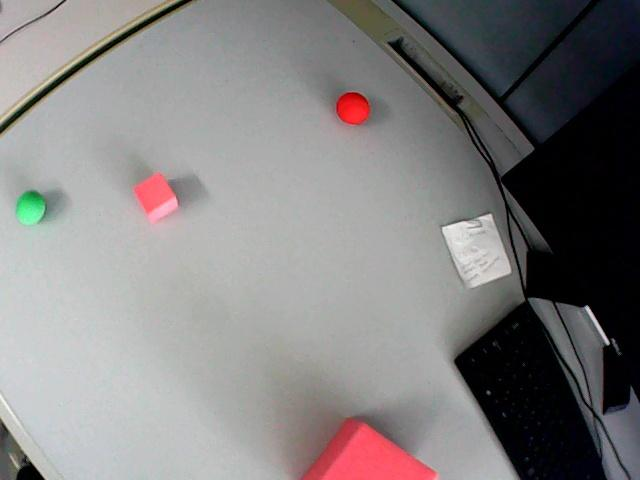red_block: (303, 419, 437, 479), (134, 173, 177, 222)
